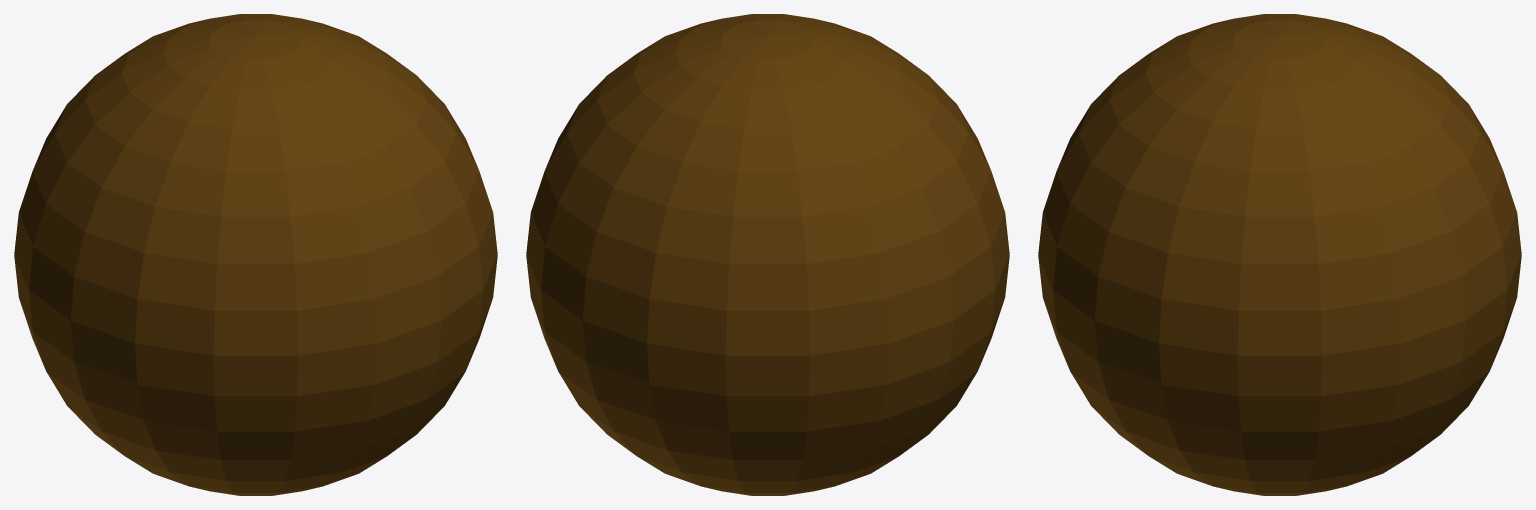
The model's file is bronze_barren.gltf.
The picture shows the model from 3 angles, left to right: view 1: azimuth 30°, elevation 25°; view 2: azimuth 150°, elevation 25°; view 3: azimuth 270°, elevation 25°; orthographic projection.
Visible parts, largest first — view 1: bronze_barren; view 2: bronze_barren; view 3: bronze_barren.
Part boxes in pixels (bbox=[...]): bronze_barren: bbox=[14, 14, 497, 495]; bronze_barren: bbox=[526, 14, 1009, 495]; bronze_barren: bbox=[1038, 14, 1521, 495].
Size of the model in its own units: 0.3447 by 0.35 by 0.35.
